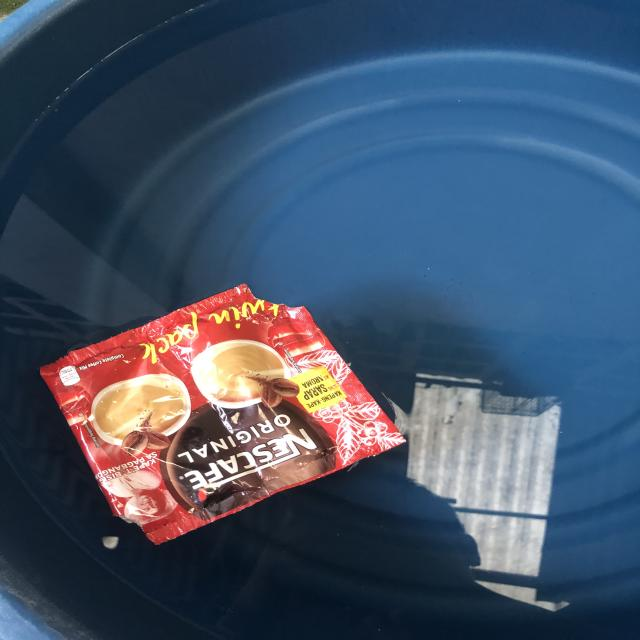Plastic Wrapper: (0, 267, 432, 557)
